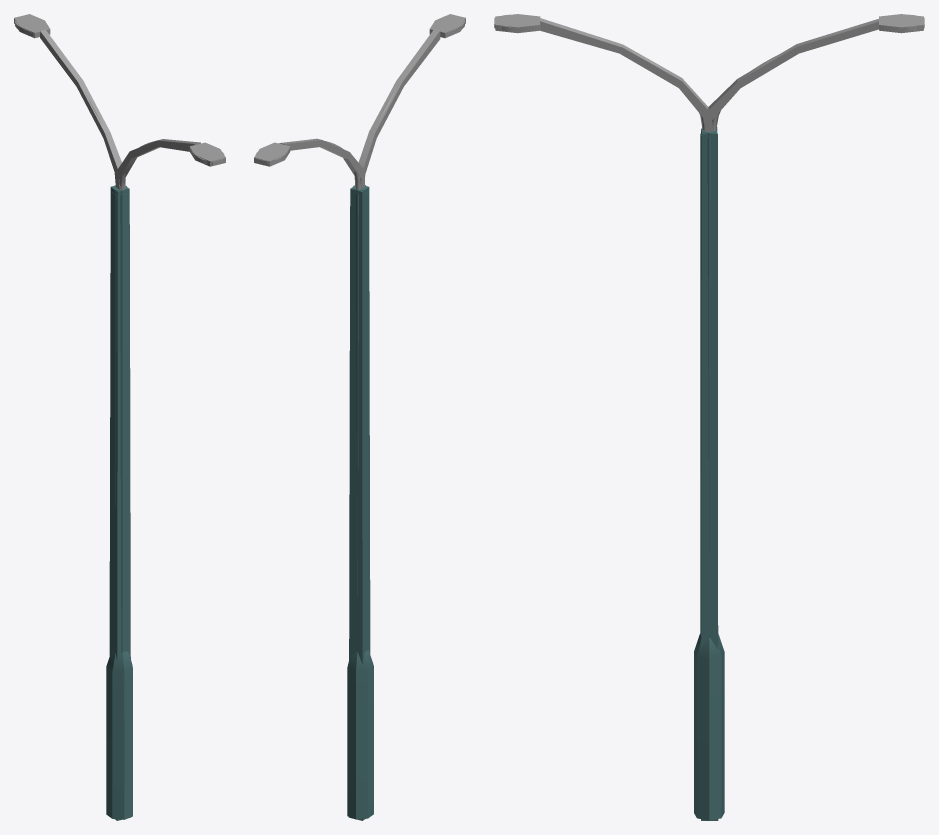
File: E_Double Lamp.fbx
The picture shows the model from 3 angles, left to right: view 1: azimuth 30°, elevation 25°; view 2: azimuth 150°, elevation 25°; view 3: azimuth 270°, elevation 25°; orthographic projection. The views are drawn at different scales.
Parts seen in each view (by area): view 1: hp_dbl_lamp, mp_e_dbl_lamp; view 2: mp_e_dbl_lamp, hp_dbl_lamp; view 3: mp_e_dbl_lamp, hp_dbl_lamp.
Boxes of the visible parts, x1=… form: hp_dbl_lamp: x1=15, y1=21, x2=224, y2=819; mp_e_dbl_lamp: x1=14, y1=14, x2=225, y2=820; mp_e_dbl_lamp: x1=254, y1=14, x2=465, y2=820; hp_dbl_lamp: x1=255, y1=20, x2=464, y2=819; mp_e_dbl_lamp: x1=495, y1=14, x2=923, y2=820; hp_dbl_lamp: x1=494, y1=14, x2=924, y2=820.
Size of the model in its own units: 44.13 by 1224 by 598.
